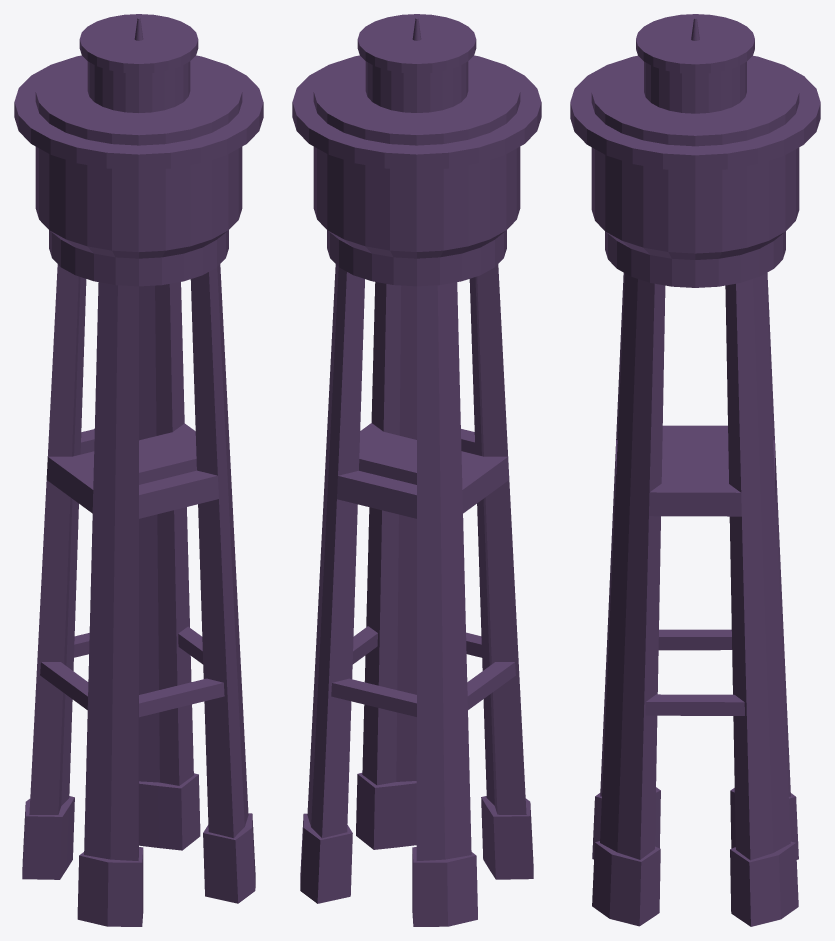
The model's file is Torre.fbx.
3 views of the same model, side by side, from view 1: azimuth 30°, elevation 25°; view 2: azimuth 150°, elevation 25°; view 3: azimuth 270°, elevation 25° (orthographic).
Parts seen in each view (by area): view 1: Torre; view 2: Torre; view 3: Torre.
Boxes of the visible parts, bbox=[...] form: Torre: bbox=[14, 14, 263, 926]; Torre: bbox=[292, 14, 541, 926]; Torre: bbox=[570, 14, 820, 926].
Size of what is drawn, in the model's own units: 341 by 1298 by 341.
